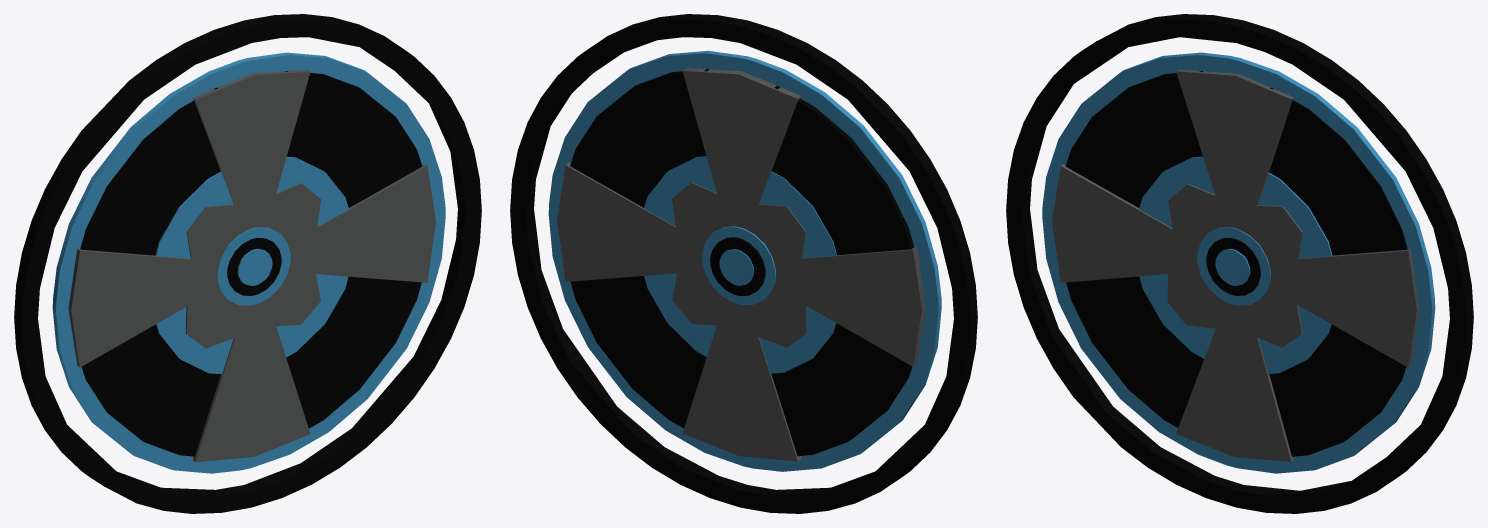
File: Shield_Powerup.fbx
3 views of the same model, side by side, from view 1: azimuth 30°, elevation 25°; view 2: azimuth 150°, elevation 25°; view 3: azimuth 330°, elevation 25° (orthographic).
Visible parts, largest first — view 1: Shield_Powerup_Mesh; view 2: Shield_Powerup_Mesh; view 3: Shield_Powerup_Mesh.
Boxes of the visible parts, box(x1,y1,x2,y2) form: Shield_Powerup_Mesh: box(14, 14, 481, 513); Shield_Powerup_Mesh: box(510, 14, 977, 513); Shield_Powerup_Mesh: box(1006, 14, 1473, 513).
Size of the model in its own units: 15.83 by 15.83 by 0.8913.
